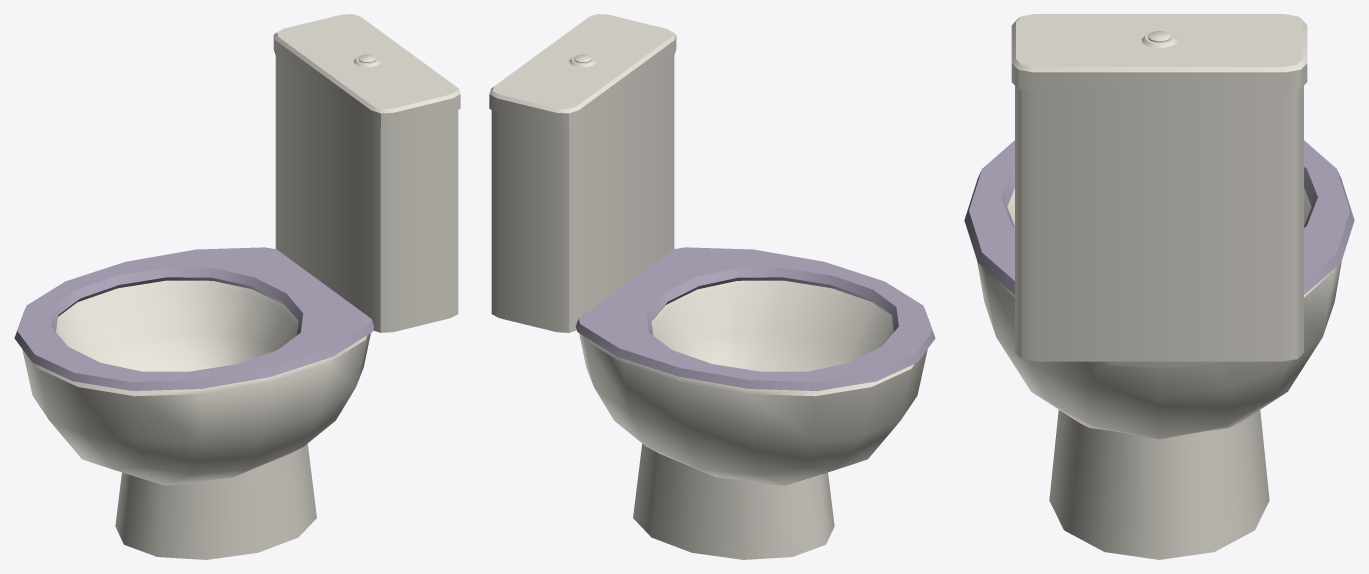
The model's file is toilet.normal.fbx.
The picture shows the model from 3 angles, left to right: view 1: azimuth 30°, elevation 25°; view 2: azimuth 150°, elevation 25°; view 3: azimuth 270°, elevation 25°; orthographic projection. The views are drawn at different scales.
Visible parts, largest first — view 1: Cube.002; view 2: Cube.002; view 3: Cube.002.
Part boxes in pixels (bbox=[...]): Cube.002: bbox=[14, 14, 460, 559]; Cube.002: bbox=[489, 14, 935, 559]; Cube.002: bbox=[964, 14, 1354, 559].
Size of the model in its own units: 141 by 152 by 95.42.
